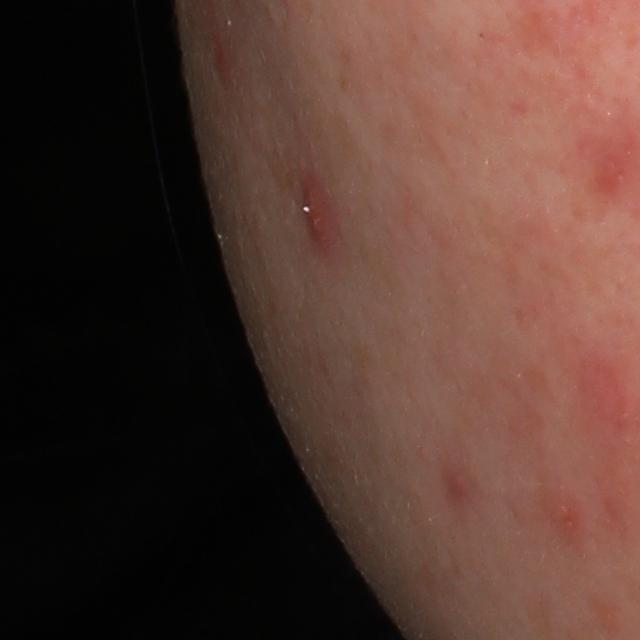papule: (292, 182, 343, 247), (554, 495, 589, 535), (444, 473, 470, 499)
